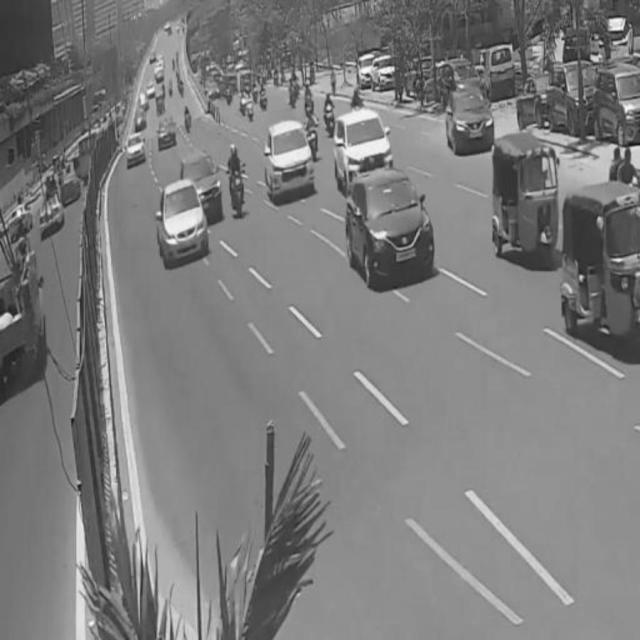vehicle: (562, 182, 640, 340), (345, 160, 433, 288), (491, 128, 555, 256), (157, 182, 211, 262), (335, 114, 392, 185), (263, 127, 317, 194), (444, 83, 494, 150), (177, 151, 223, 223), (228, 140, 250, 218)
